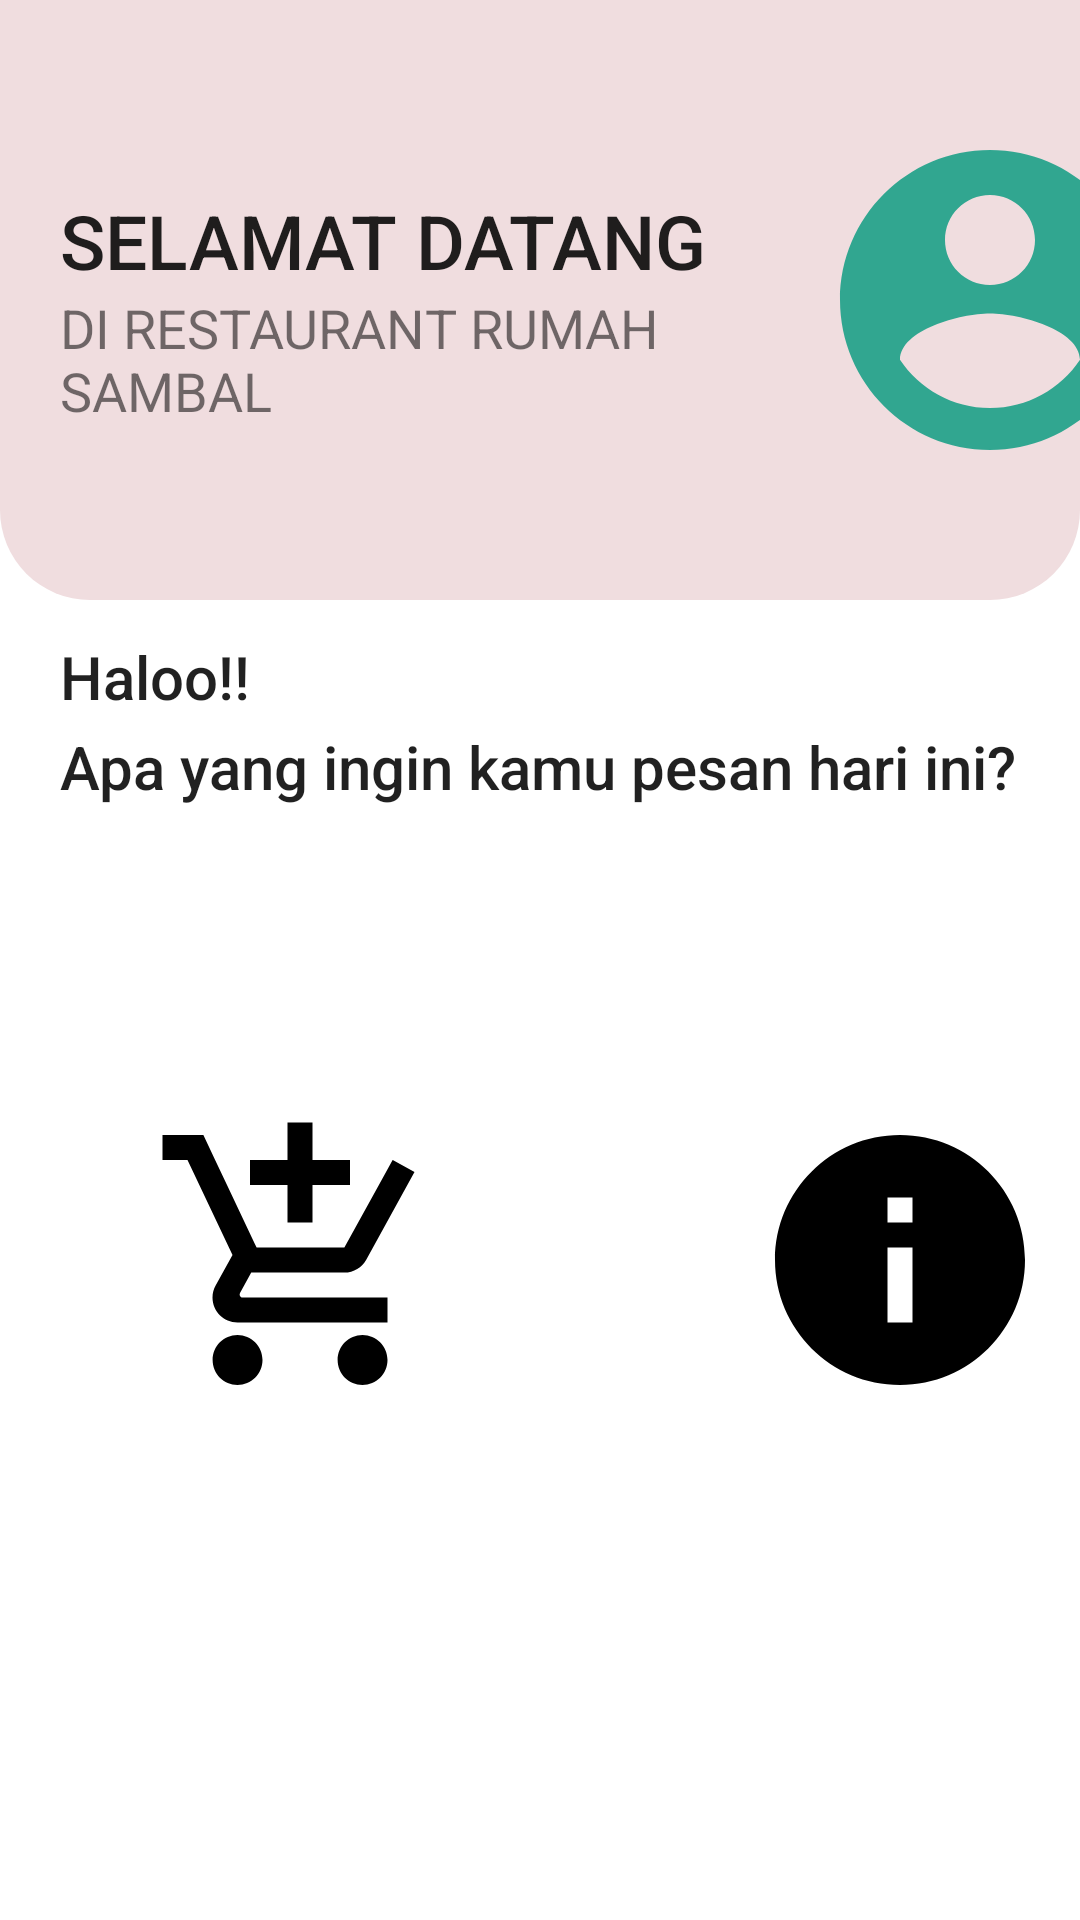

Icons on this 1080 x 1920 Android screen, each with the point to tap as [x,y]:
troli: [288,1253]
